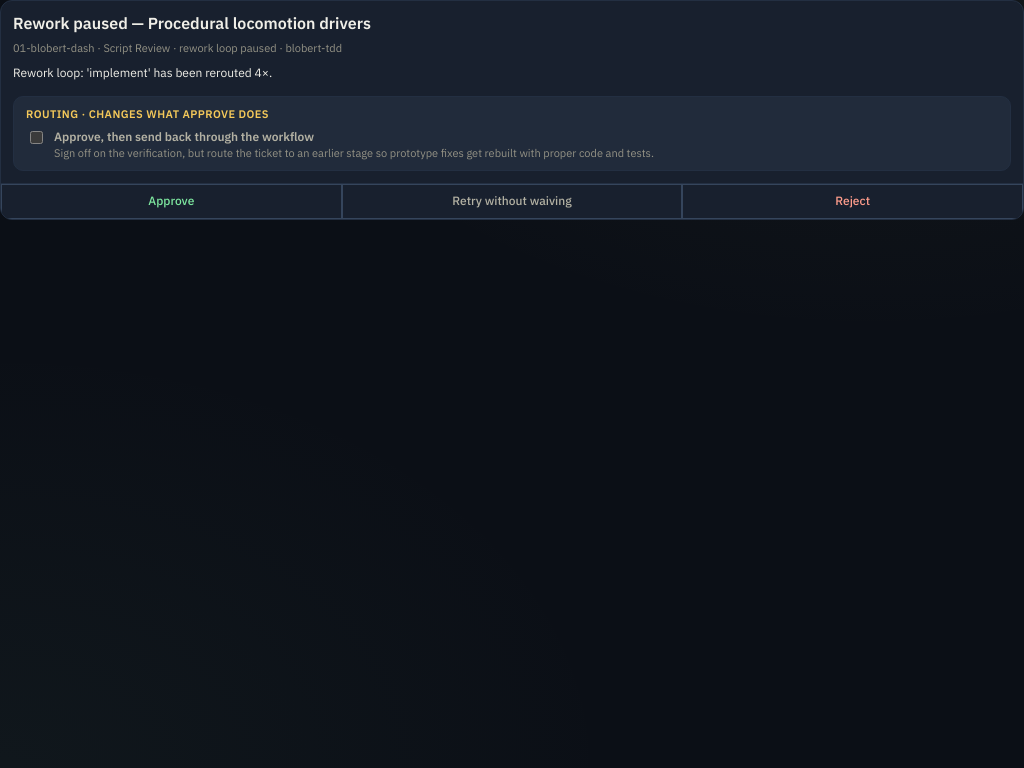
it: ApprovalCard rework pause › keeps Reject on the existing sign-off modal and does not drop names
This screenshot has width=1024, height=768.
What coordinates should you click on to do the following:
click the button "Reject"
I would click on:
 (853, 201)
Its box is [682,184,1023,219].
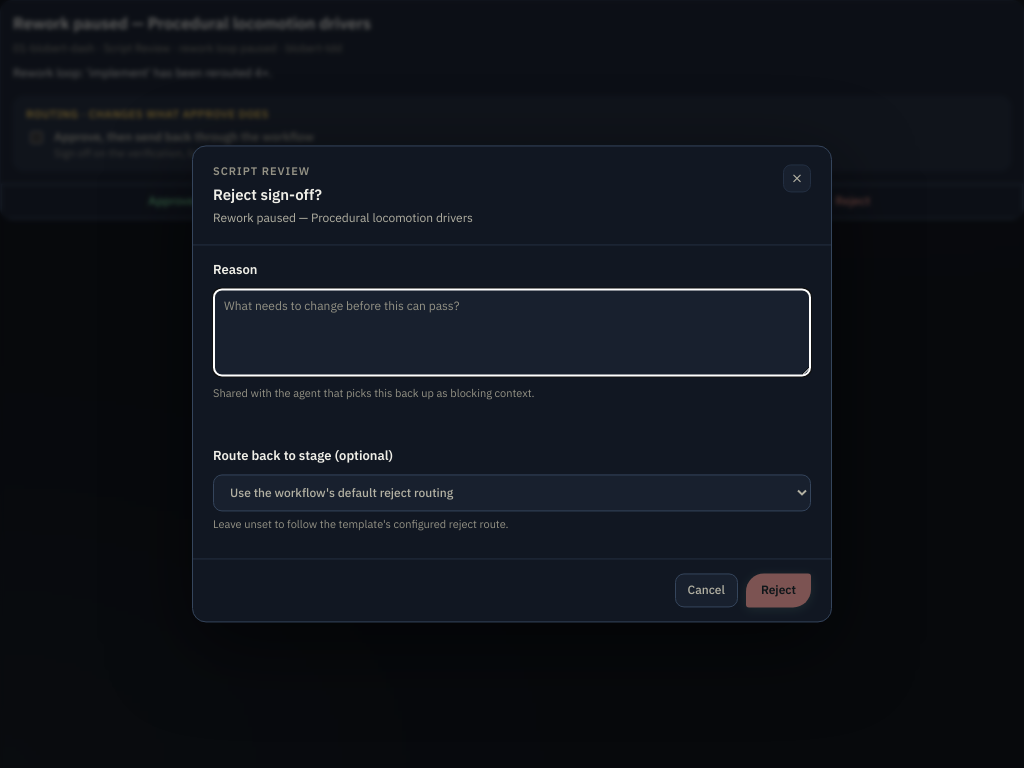
Check: the dialog "Reject sign-off" is shown, box [192,145,832,622]
